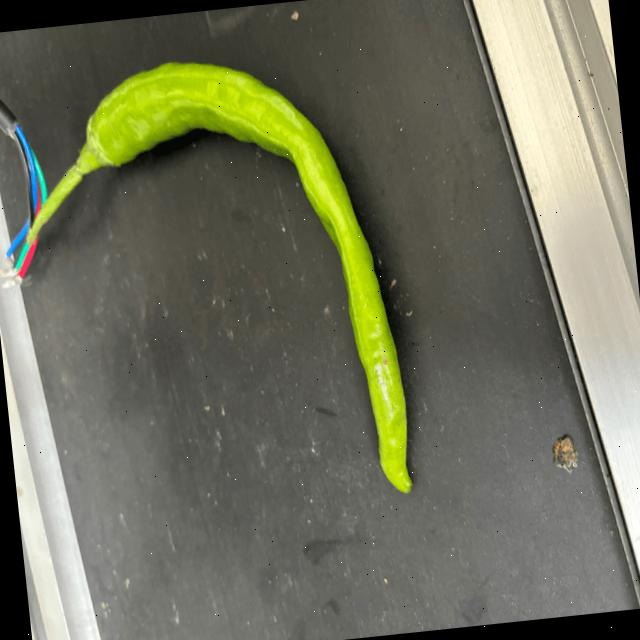chili: (82, 61, 412, 500)
